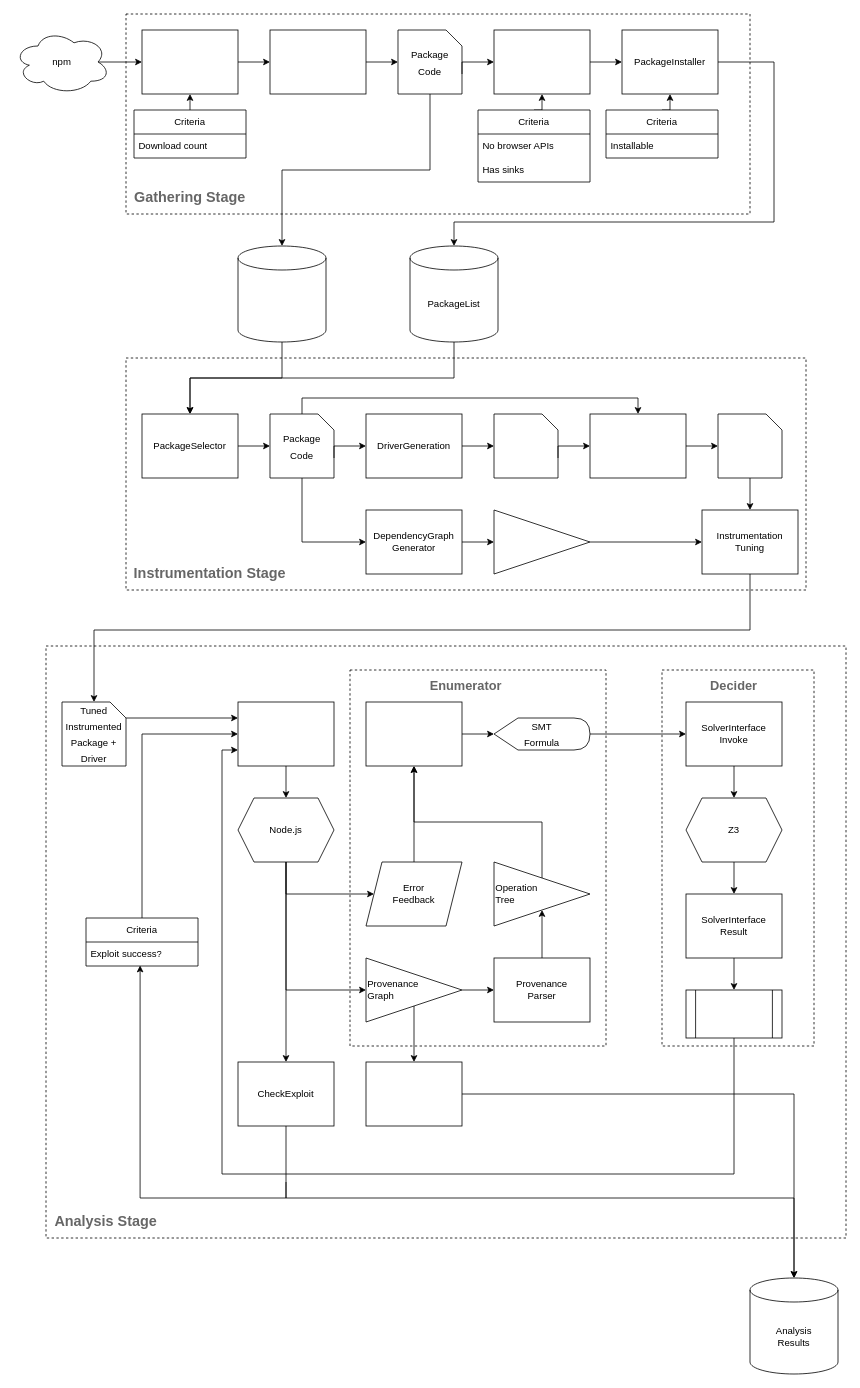
Some shapes in this 860 by 1388 pixel diagram are drawn without their labels. Here are the shapes that lost their labels. From the top down, the centre of each, then its label:
At [189,61]: "NpmQuery".
At [317,61]: "NpmDownload".
At [541,61]: "CodeFilter".
At [281,293]: "Package Cache".
At [525,445]: "Driver Code".
At [637,445]: "Jalangi2-babel".
At [749,445]: "Instrumented Package + Driver".
At [541,541]: "Dependency Graph".
At [285,733]: "Fuzzer".
At [413,733]: "Concretizer".
At [733,1013]: "Candidate Exploit".
At [413,1093]: "Extract Flows".
